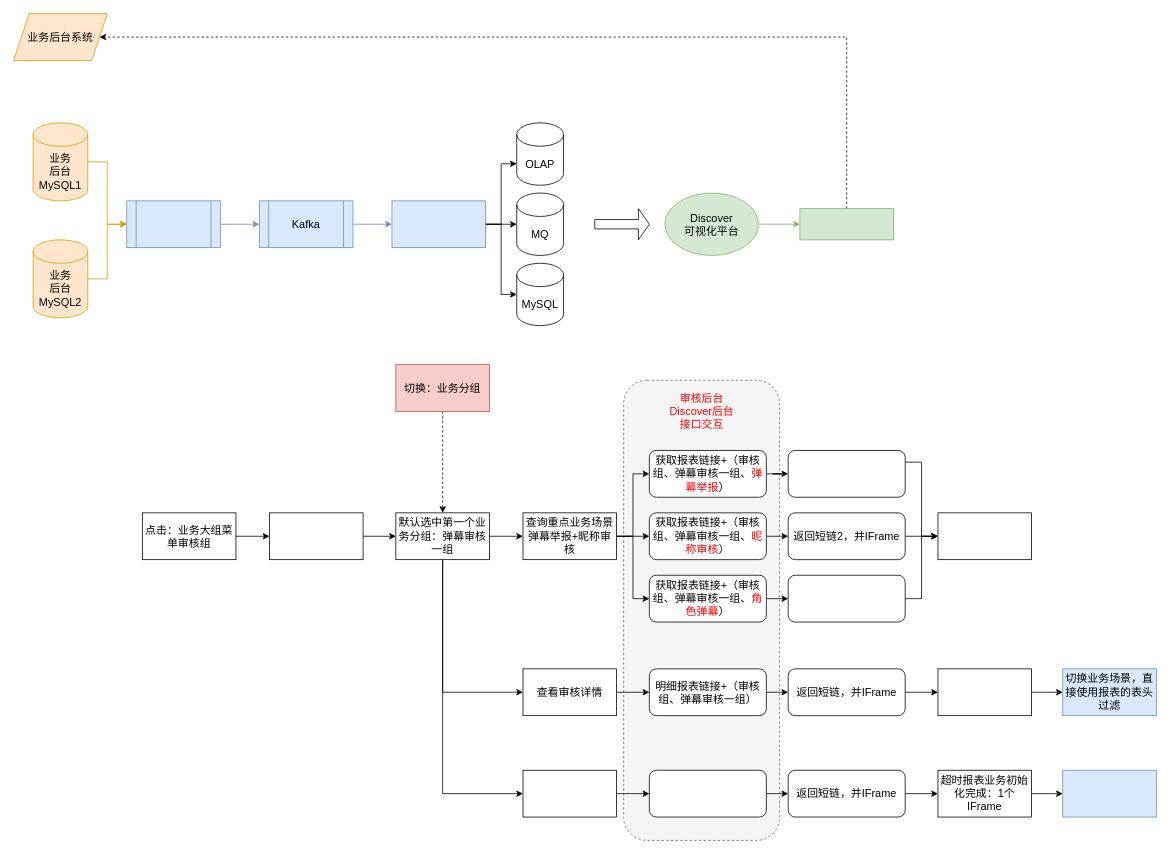
This 1170x854 diagram has some shape labels left out. Here are the shapes that lost their labels. From the top down, the box of each, then its label:
(126, 200, 220, 248): Canal
(391, 200, 486, 248): 玄武 实时引擎
(799, 208, 893, 240): 实时/准实时 报表
(787, 450, 905, 497): 返回短链1，并IFrame
(269, 512, 363, 560): 初始化：选择业务分组下拉框
(937, 512, 1032, 560): 实时看板初始化完成，包括：1个下拉框，3个IFrame
(787, 574, 905, 622): 返回短链3，并IFrame
(937, 668, 1032, 716): 明细报表业务初始化完成：1个IFrame
(522, 769, 617, 817): 查看超时详情
(649, 769, 766, 817): 超时报表链接+（审核组、弹幕审核一组）
(1062, 769, 1156, 817): 切换业务场景和超时类型，直接使用报表的表头过滤
